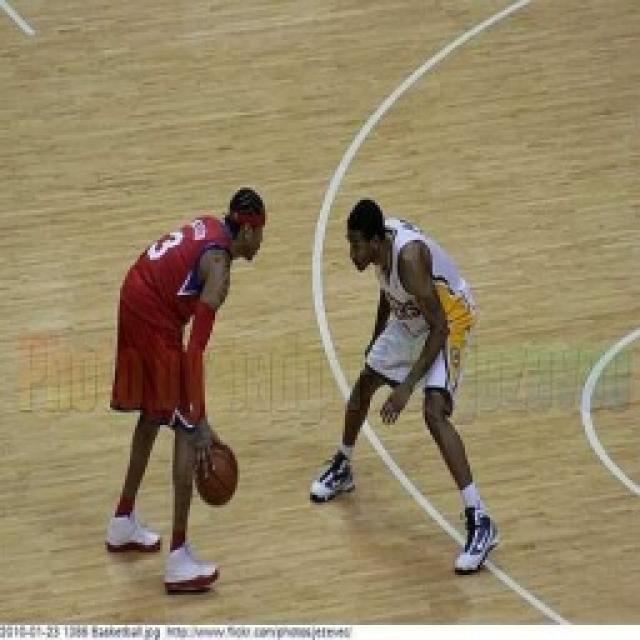rim: (187, 436, 247, 512)
